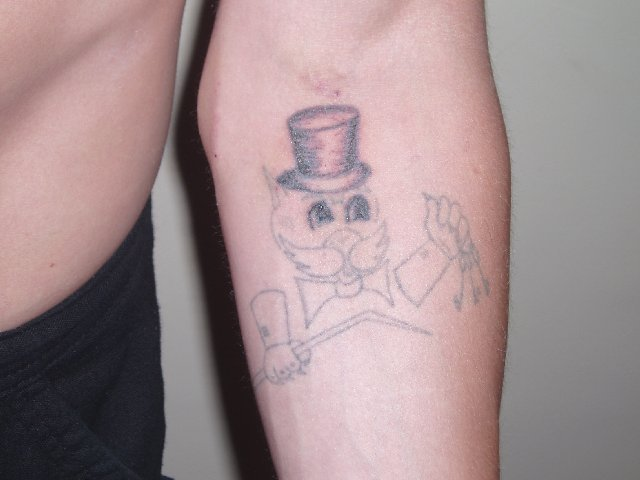tatu8_kot: (233, 94, 498, 379)
